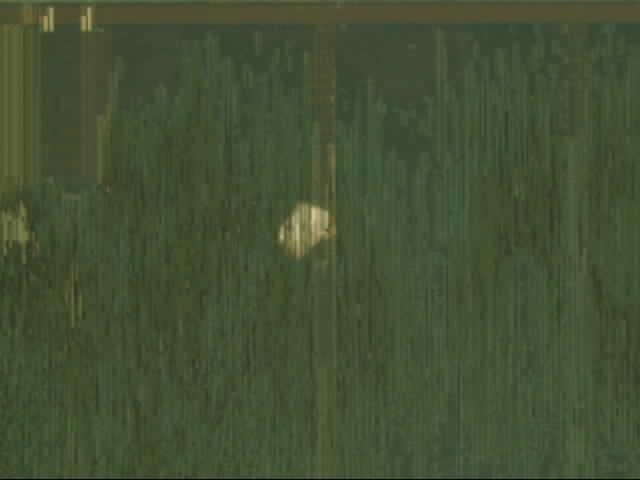BLOCK ETCH: (274, 196, 338, 260)
